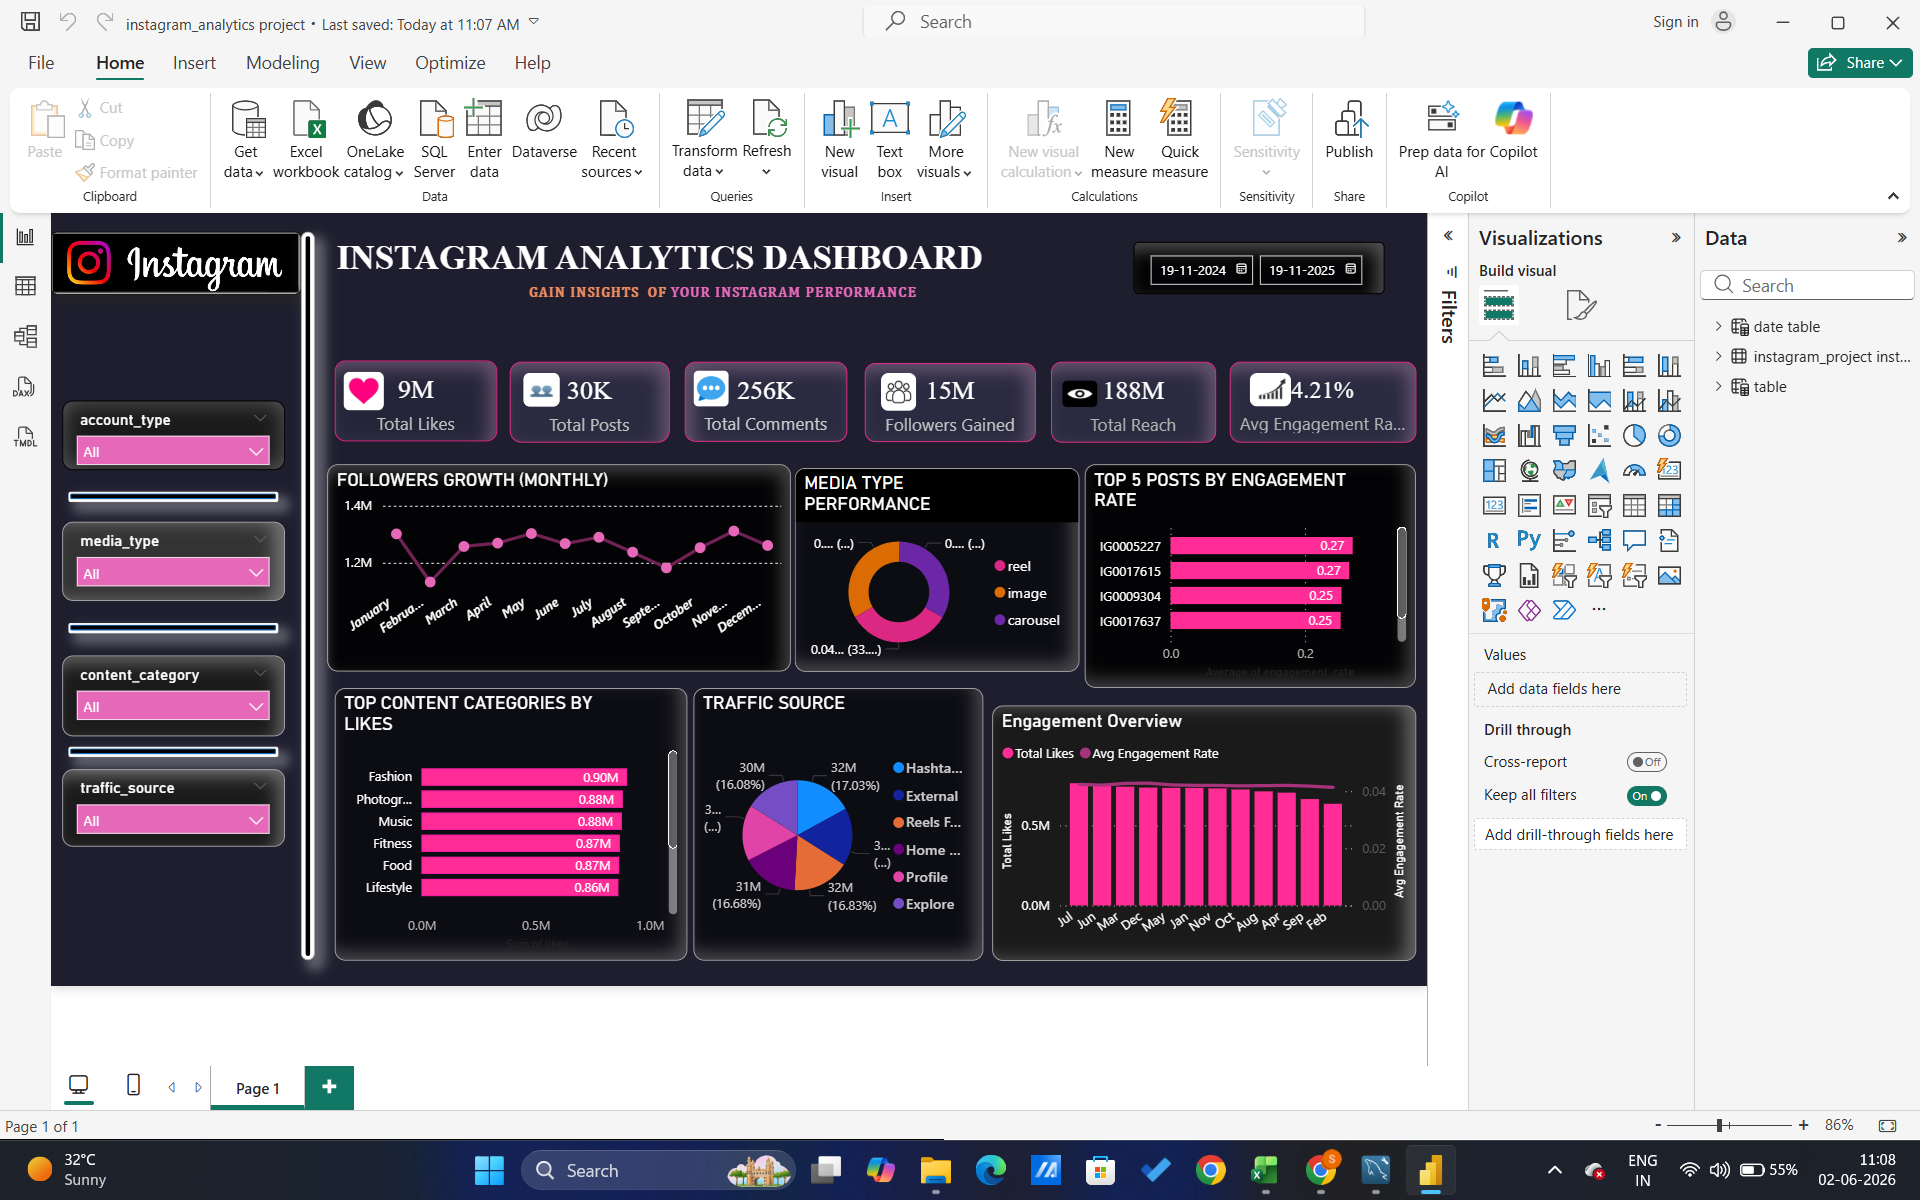

What the dashboard file says about the page in this screenshot:
{"tool":"powerbi","page":{"name":"Page 1","canvas":[1280,720],"ordinal":0},"visuals":[{"type":"card","fields":{"Values":["instagram_project instagram_analytics.Total Likes"]},"box":[264,137.2,151.2,75.6],"z":0},{"type":"card","fields":{"Values":["instagram_project instagram_analytics.Total Posts"]},"box":[426.7,138.4,148.8,75.6],"z":1000},{"type":"card","fields":{"Values":["instagram_project instagram_analytics.Followers Gained"]},"box":[757,139.5,159.3,73.3],"z":2000},{"type":"lineChart","title":"FOLLOWERS GROWTH (MONTHLY)","fields":{"Category":["date table.Date.Variation.Date Hierarchy.Month"],"Y":["Sum(instagram_project instagram_analytics.followers_gained)"]},"box":[257,233.7,431.4,193],"z":3000},{"type":"pieChart","title":"TRAFFIC SOURCE","fields":{"Category":["instagram_project instagram_analytics.traffic_source"],"Y":["instagram_project instagram_analytics.Total Reach"]},"box":[607,441.9,350,253.5],"z":4000},{"type":"clusteredBarChart","title":"TOP CONTENT CATEGORIES BY LIKES","fields":{"Category":["instagram_project instagram_analytics.content_category"],"Y":["Sum(instagram_project instagram_analytics.likes)"]},"box":[264,441.9,327.9,253.5],"z":5000},{"type":"donutChart","title":"MEDIA TYPE PERFORMANCE","fields":{"Category":["instagram_project instagram_analytics.media_type"],"Y":["instagram_project instagram_analytics.Avg Engagement Rate"]},"box":[695.4,239.5,311.6,183.7],"z":6000},{"type":"card","fields":{"Values":["instagram_project instagram_analytics.Total Comments"]},"box":[589.5,138.4,151.2,74.4],"z":7000},{"type":"card","fields":{"Values":["instagram_project instagram_analytics.Total Reach"]},"box":[930.2,138.4,153.5,75.6],"z":8000},{"type":"card","fields":{"Values":["instagram_project instagram_analytics.Avg Engagement Rate"]},"box":[1096.5,138.4,183.7,76.7],"z":9000},{"type":"clusteredBarChart","title":"TOP 5 POSTS BY ENGAGEMENT RATE","fields":{"Category":["instagram_project instagram_analytics.post_id"],"Y":["Avg(instagram_project instagram_analytics.engagement_rate)"]},"box":[973.3,450,307,232.6],"z":10000},{"type":"image","box":[272.1,147.7,37.2,36],"z":11000},{"type":"image","box":[439.5,148.8,33.7,31.4],"z":12000},{"type":"image","box":[597.7,146.5,32.6,33.7],"z":13000},{"type":"image","box":[1115.1,148.8,38.4,31.4],"z":14000},{"type":"image","box":[940.7,155.8,32.6,24.4],"z":15000},{"type":"image","box":[772.1,148.8,32.6,34.9],"z":16000},{"type":"image","box":[0,17.1,217.1,58.5],"z":18000},{"type":"slicer","fields":{"Values":["instagram_project instagram_analytics.post_date"]},"box":[0,465.1,232.6,50],"z":19000},{"type":"slicer","fields":{"Values":["instagram_project instagram_analytics.account_type"]},"box":[11,174.4,196.3,64.6],"z":20000},{"type":"slicer","fields":{"Values":["instagram_project instagram_analytics.media_type"]},"box":[11.6,273.3,196.5,126.7],"z":21000},{"type":"shape","box":[232.6,17.4,12.8,677.9],"z":22000},{"type":"shape","box":[10.5,248.8,196.5,12.8],"z":22001},{"type":"shape","box":[11.6,422.1,195.3,9.3],"z":22002}]}

Visuals, with their boxes on the page's 1280x720 design canvas (x1, y1, x2, y2). These are canvas units, not pixel positions in the 1920x1200 screenshot, which may show the page scaled, cropped or inside an application window:
card - instagram_project instagram_analytics.Total Likes: (264,137,415,213)
card - instagram_project instagram_analytics.Total Posts: (427,138,576,214)
card - instagram_project instagram_analytics.Followers Gained: (757,140,916,213)
"FOLLOWERS GROWTH (MONTHLY)" lineChart: (257,234,688,427)
"TRAFFIC SOURCE" pieChart: (607,442,957,695)
"TOP CONTENT CATEGORIES BY LIKES" clusteredBarChart: (264,442,592,695)
"MEDIA TYPE PERFORMANCE" donutChart: (695,240,1007,423)
card - instagram_project instagram_analytics.Total Comments: (590,138,741,213)
card - instagram_project instagram_analytics.Total Reach: (930,138,1084,214)
card - instagram_project instagram_analytics.Avg Engagement Rate: (1096,138,1280,215)
"TOP 5 POSTS BY ENGAGEMENT RATE" clusteredBarChart: (973,450,1280,683)
image: (272,148,309,184)
image: (440,149,473,180)
image: (598,146,630,180)
image: (1115,149,1154,180)
image: (941,156,973,180)
image: (772,149,805,184)
image: (0,17,217,76)
slicer - instagram_project instagram_analytics.post_date: (0,465,233,515)
slicer - instagram_project instagram_analytics.account_type: (11,174,207,239)
slicer - instagram_project instagram_analytics.media_type: (12,273,208,400)
shape: (233,17,245,695)
shape: (10,249,207,262)
shape: (12,422,207,431)
